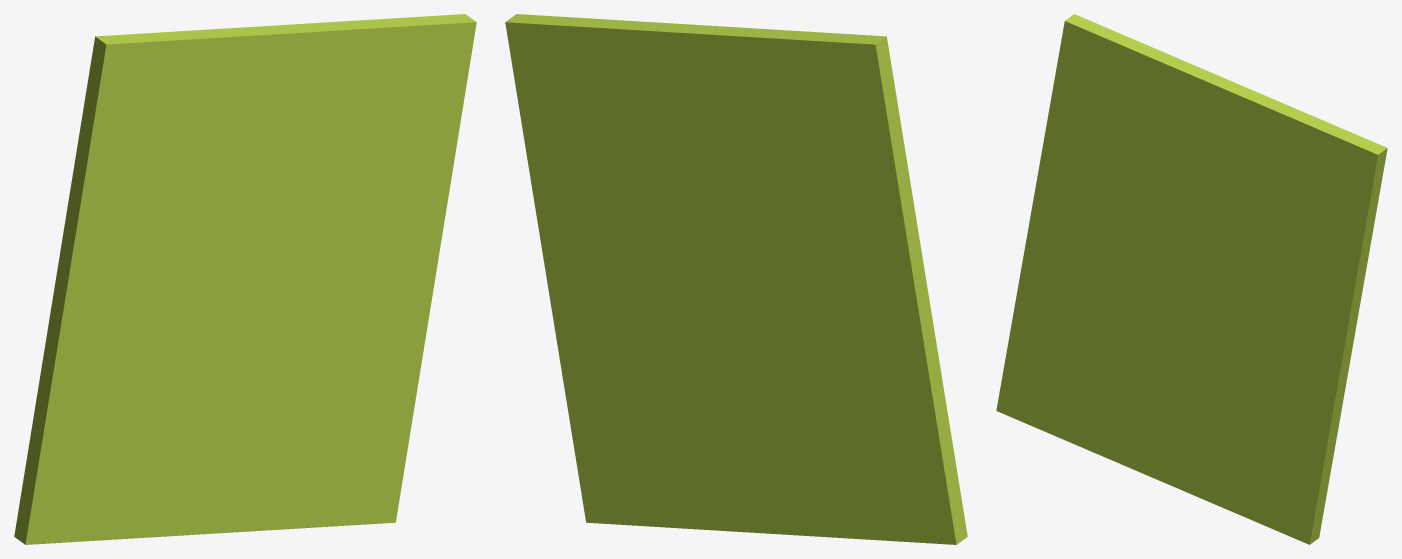
3 views of the same model, side by side, from view 1: azimuth 30°, elevation 25°; view 2: azimuth 150°, elevation 25°; view 3: azimuth 330°, elevation 25° (orthographic). The views are drawn at different scales.
Visible parts, largest first — view 1: osm-way27917482-F0; view 2: osm-way27917482-F0; view 3: osm-way27917482-F0.
Boxes of the visible parts, left/top/right/bottom form: osm-way27917482-F0: left=14, top=14, right=476, bottom=544; osm-way27917482-F0: left=505, top=14, right=967, bottom=544; osm-way27917482-F0: left=996, top=14, right=1387, bottom=544.
Size of the model in its own units: 3.47 by 4.04 by 0.15.
